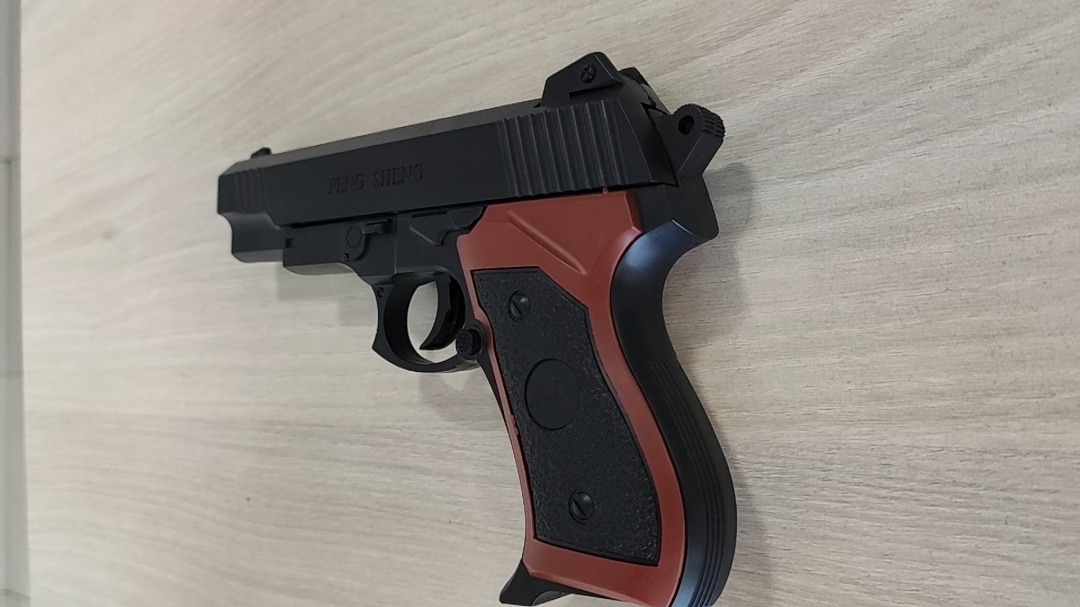gun: (217, 47, 741, 607)
